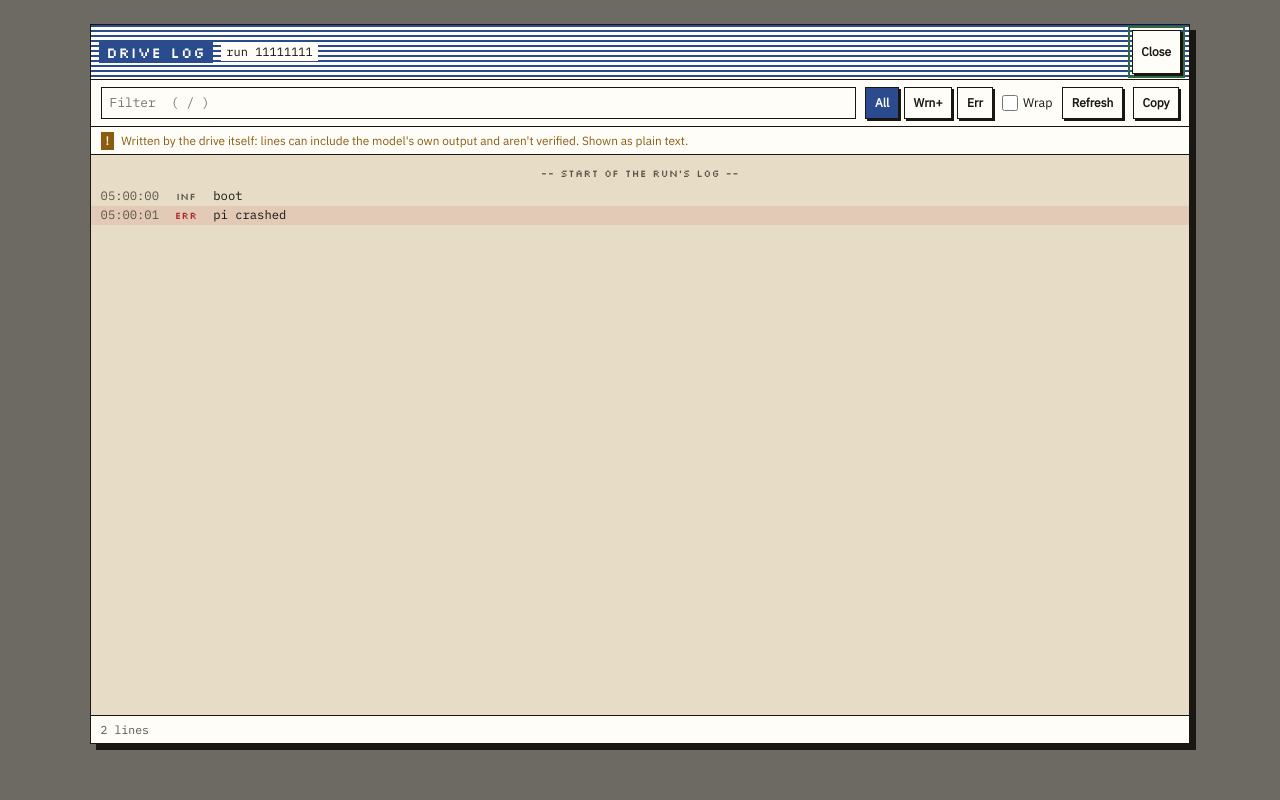
LogViewerDialog › filters by level and text
The image size is (1280, 800).
Click the button "Err".
click(975, 103)  # box [957,87,993,119]
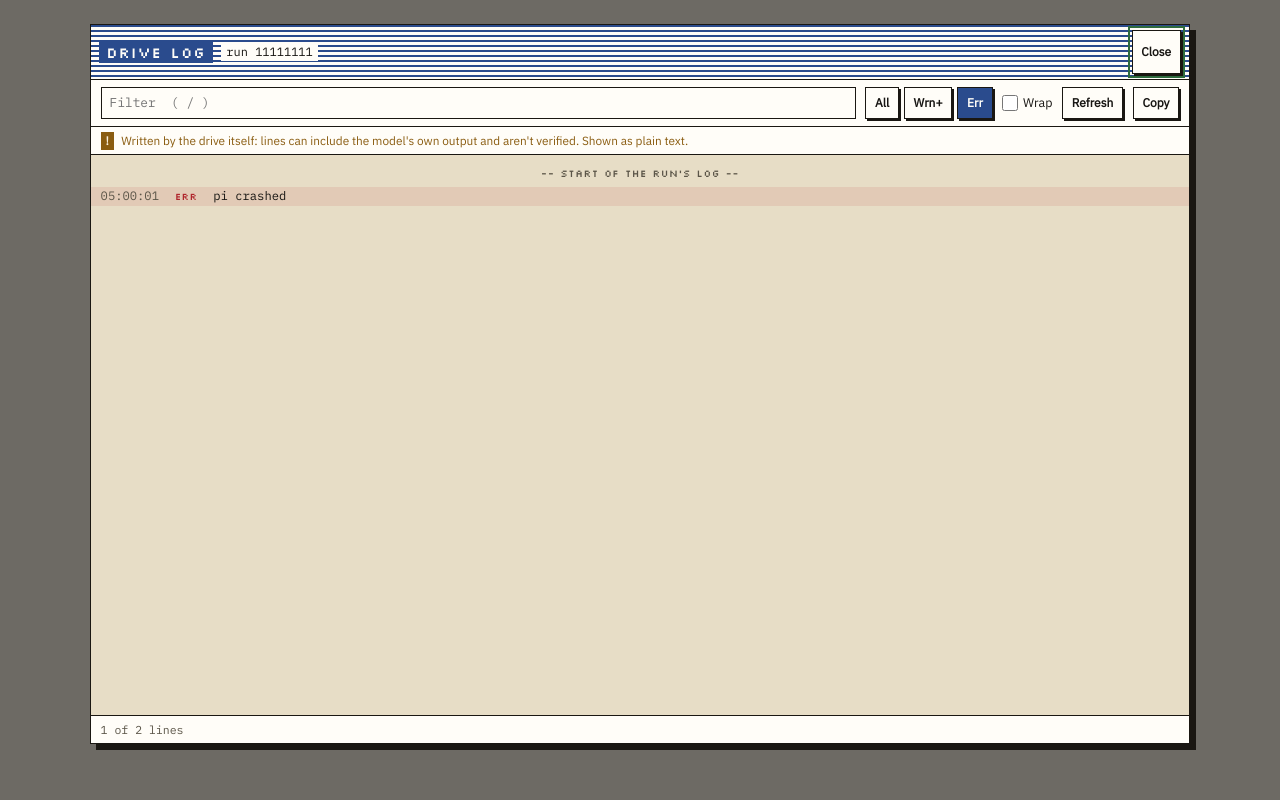
Result: the message with class "log-viewer-status" reads "1 of 2 lines" at [101,722,184,737]
